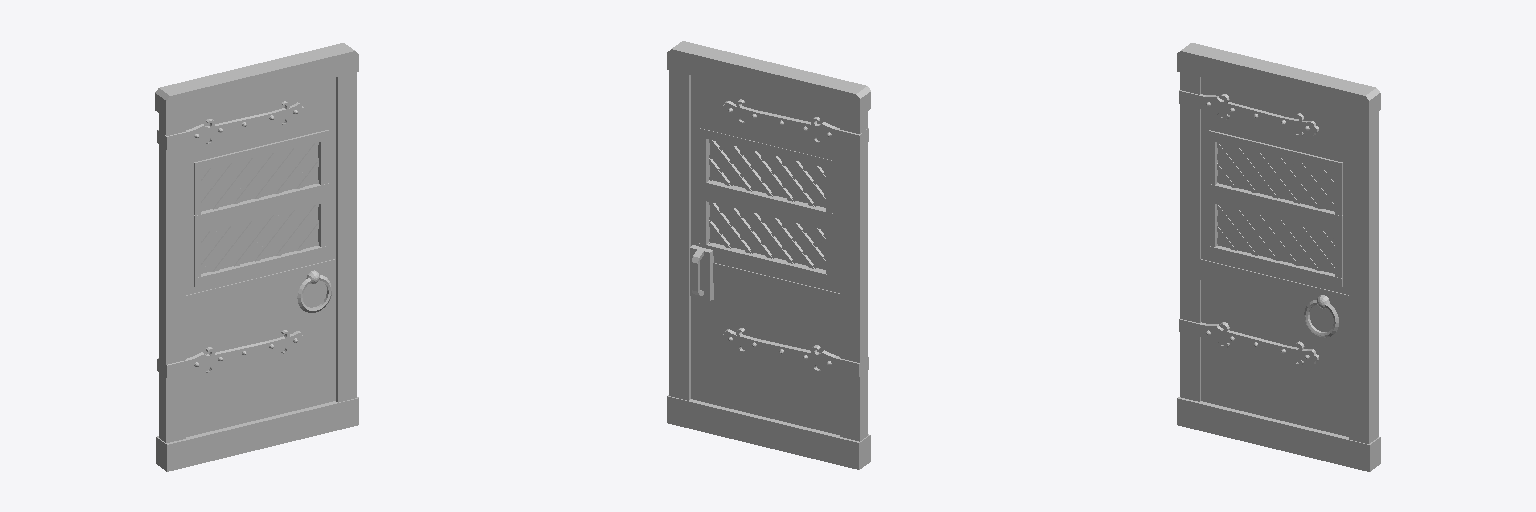
File: Door_7_Flat.obj
The picture shows the model from 3 angles: view 1: azimuth 30°, elevation 25°; view 2: azimuth 150°, elevation 25°; view 3: azimuth 330°, elevation 25°; orthographic projection.
Parts seen in each view (by area): view 1: Door_7_Flat; view 2: Door_7_Flat; view 3: Door_7_Flat.
Boxes of the visible parts, box(x1,y1,x2,y2) form: Door_7_Flat: box(155, 43, 358, 471); Door_7_Flat: box(667, 41, 870, 469); Door_7_Flat: box(1177, 43, 1380, 471).
Size of the model in its own units: 1.13 by 2.1 by 0.2093.